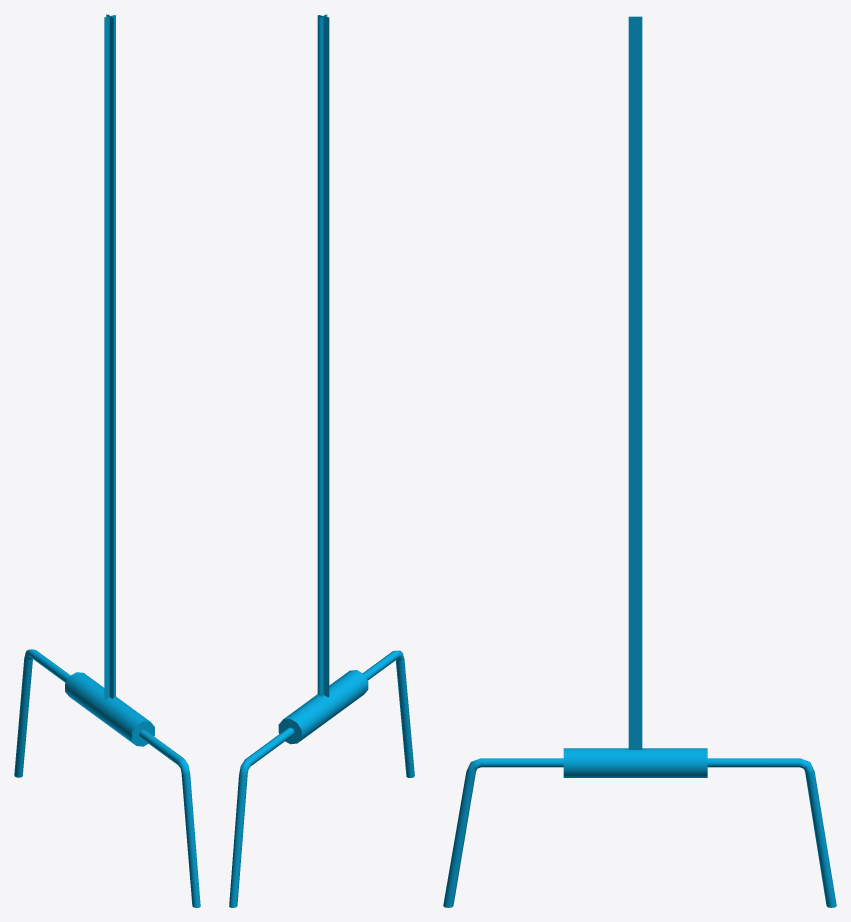
Rendered from Brasero_02_Pan_Base_Lod0.fbx.
The picture shows the model from 3 angles, left to right: view 1: azimuth 30°, elevation 25°; view 2: azimuth 150°, elevation 25°; view 3: azimuth 270°, elevation 25°; orthographic projection. The views are drawn at different scales.
Parts seen in each view (by area): view 1: Brasero_02_Pan_Base_Lod0; view 2: Brasero_02_Pan_Base_Lod0; view 3: Brasero_02_Pan_Base_Lod0.
Boxes of the visible parts, x1,y1,x2,y2 form: Brasero_02_Pan_Base_Lod0: (14, 14, 200, 907); Brasero_02_Pan_Base_Lod0: (229, 14, 414, 907); Brasero_02_Pan_Base_Lod0: (443, 16, 836, 907).
Size of the model in its own units: 2.12 by 72.26 by 28.99.
